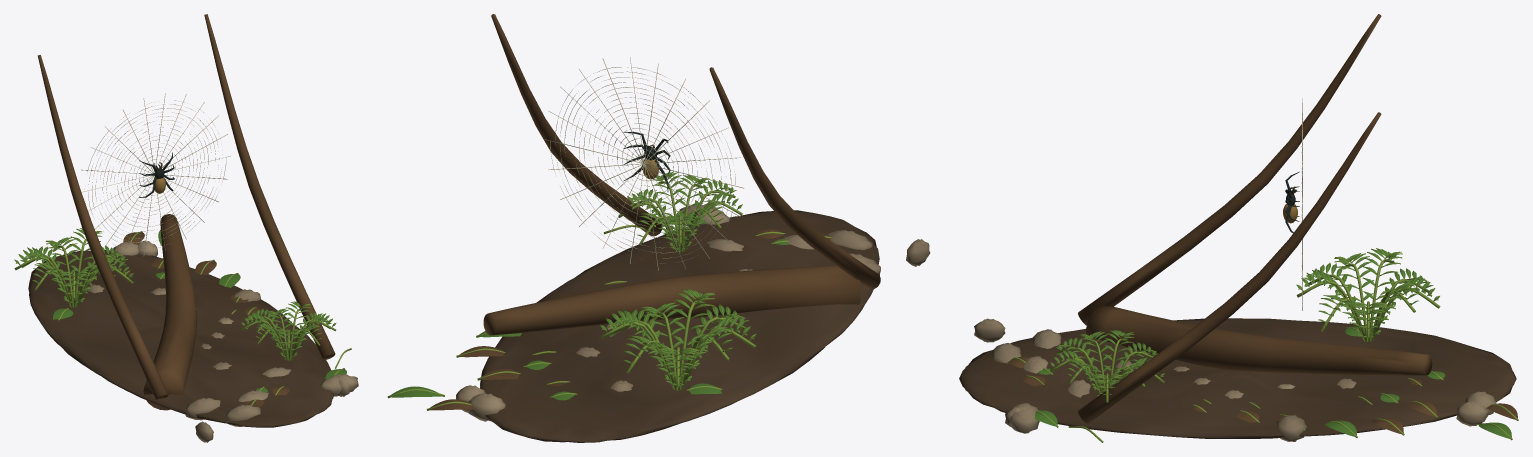
3 renders of one model, left to right at view 1: azimuth 30°, elevation 25°; view 2: azimuth 150°, elevation 25°; view 3: azimuth 270°, elevation 25°, orthographic. The views are drawn at different scales.
Parts seen in each view (by area): view 1: B15_SPEC_Bark_export; view 2: B15_SPEC_Bark_export; view 3: B15_SPEC_Bark_export.
Boxes of the visible parts, x1=… form: B15_SPEC_Bark_export: x1=14, y1=14, x2=358, y2=442; B15_SPEC_Bark_export: x1=387, y1=14, x2=930, y2=442; B15_SPEC_Bark_export: x1=959, y1=14, x2=1518, y2=442.
Size of the model in its own units: 1.17 by 1.42 by 2.17.
